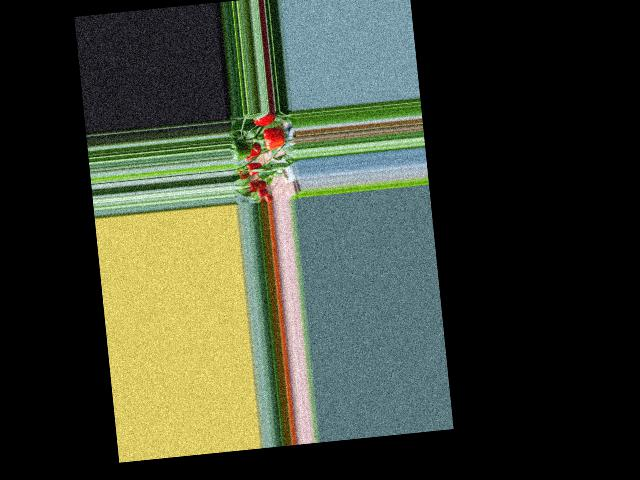bell_pepper: (243, 161, 266, 177)
